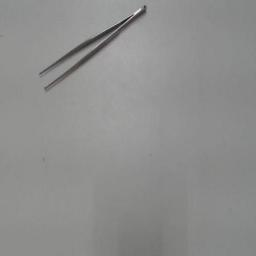Gillies Toothed Dissector: (34, 2, 150, 94)
